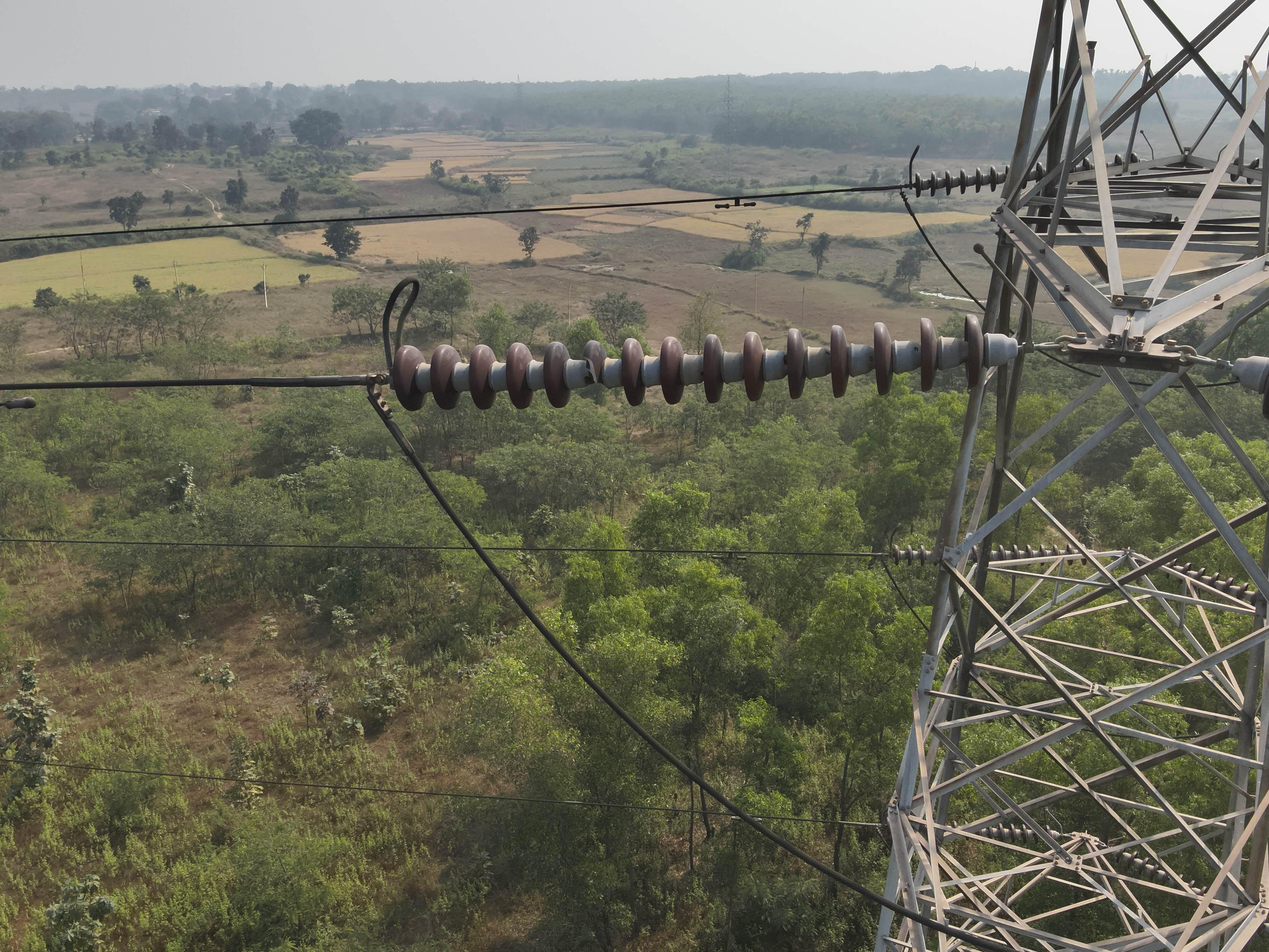broken_insulator: (578, 336, 611, 393)
